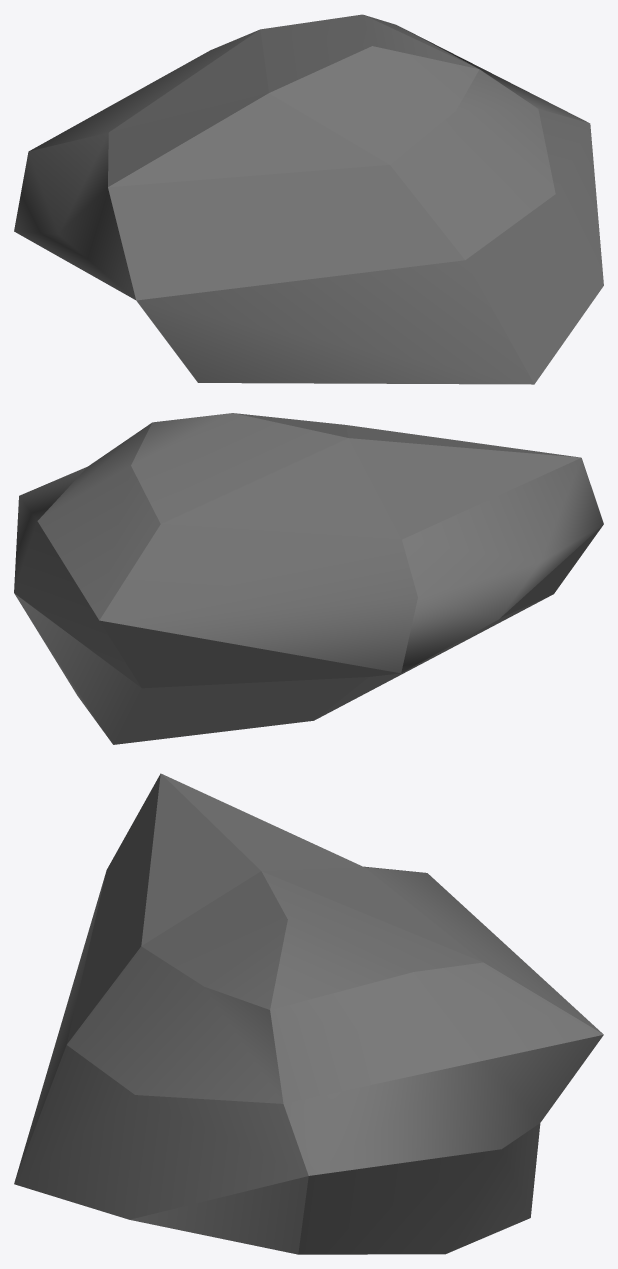
Rendered from Rock_03.fbx.
3 renders of one model, top to bottom at view 1: azimuth 30°, elevation 25°; view 2: azimuth 150°, elevation 25°; view 3: azimuth 270°, elevation 25°, orthographic. The views are drawn at different scales.
Parts seen in each view (by area): view 1: Rock3; view 2: Rock3; view 3: Rock3.
Boxes of the visible parts, x1,y1,x2,y2 form: Rock3: (14, 14, 603, 384); Rock3: (14, 413, 603, 744); Rock3: (14, 773, 603, 1254).
Bounding box in the file's own units: 1.11 × 0.5449 × 0.9995.
1 material, 1 textured.
